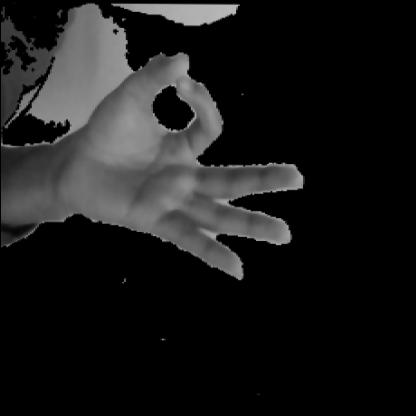ok: (52, 46, 308, 282)
